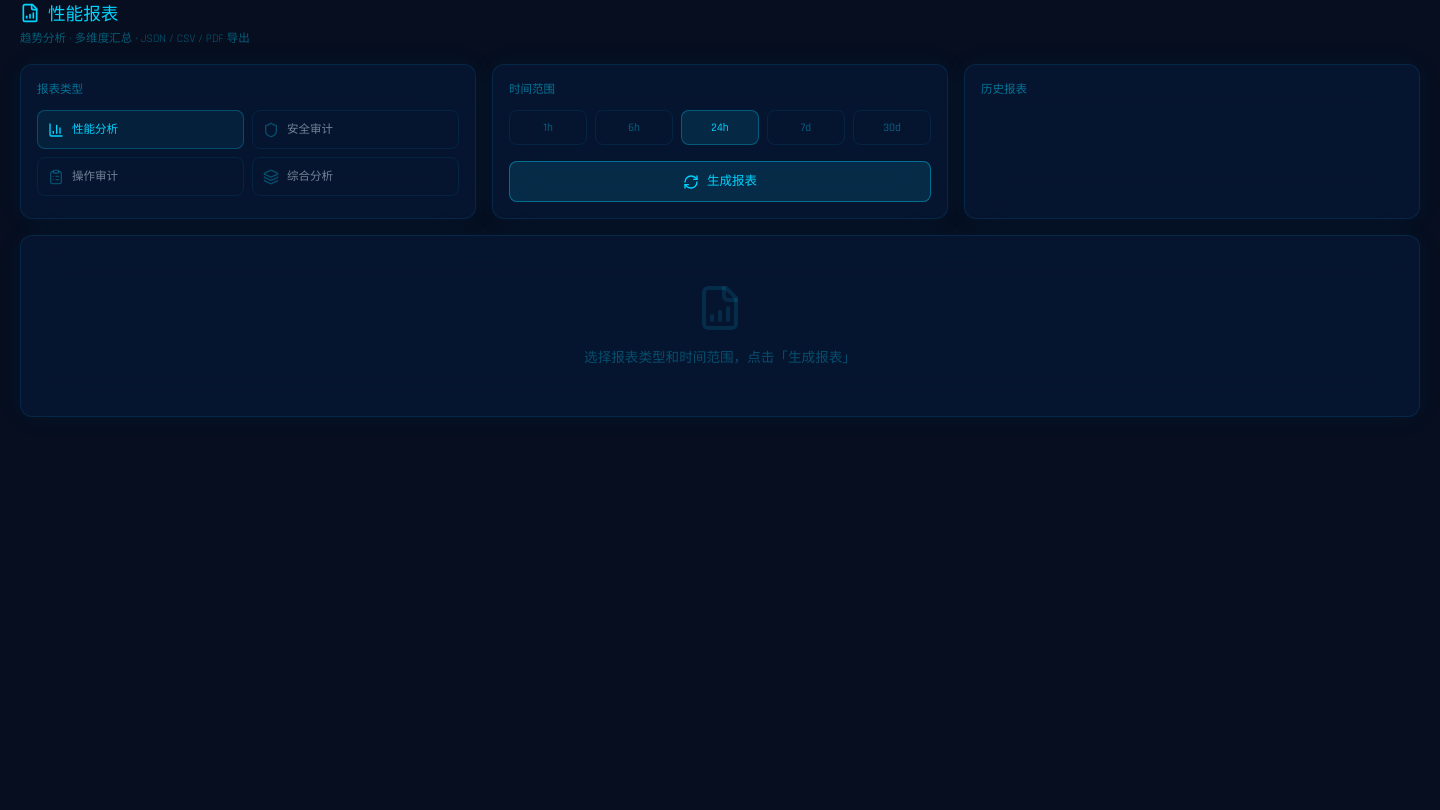
Test: ReportExporter › renders charts after generation
Click the button "生成报表".
click(720, 182)  # box [509, 161, 931, 202]
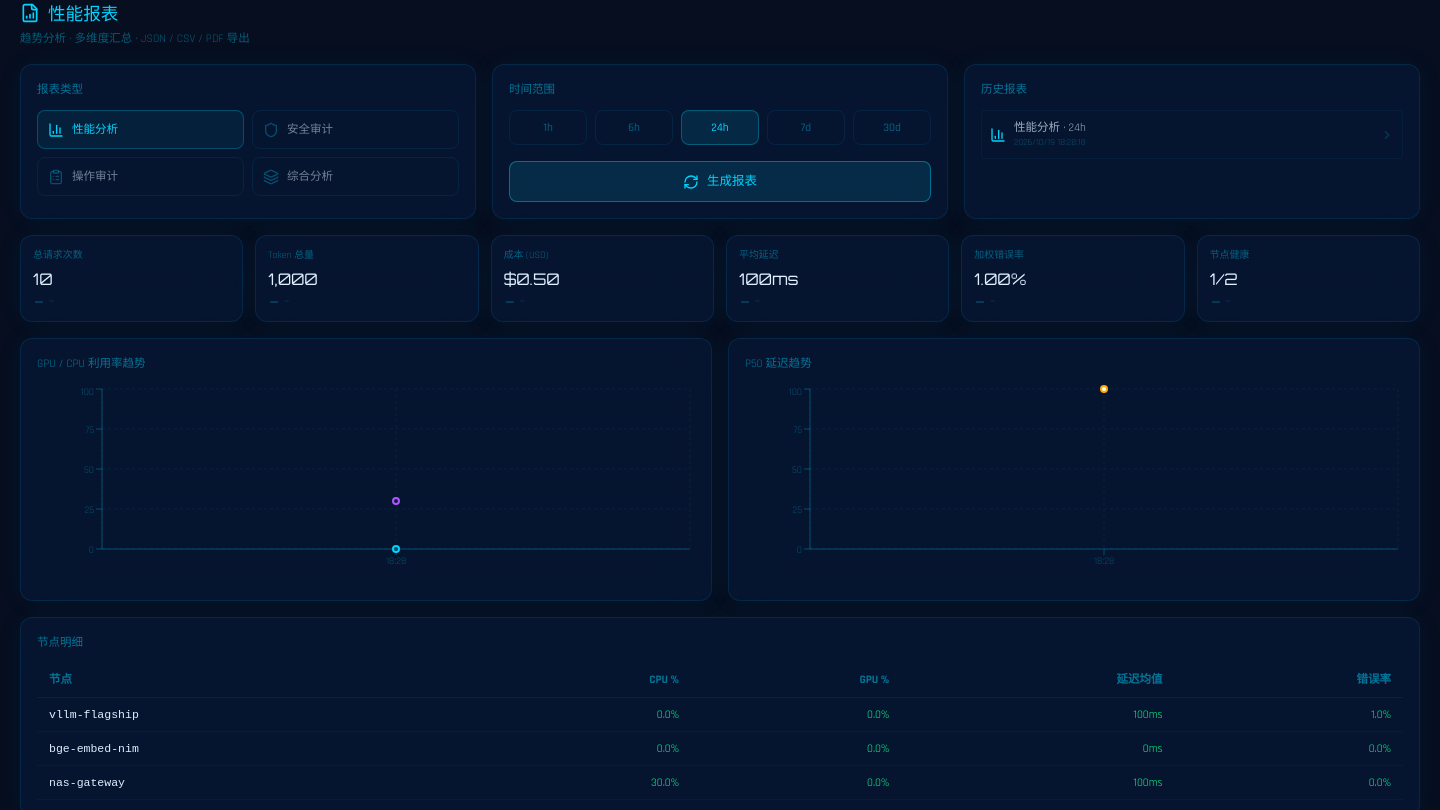
Check: the text "GPU / CPU 利用率趋势" is shown, box [37, 356, 146, 371]
Check: the text "P50 延迟趋势" is shown, box [745, 356, 812, 371]
